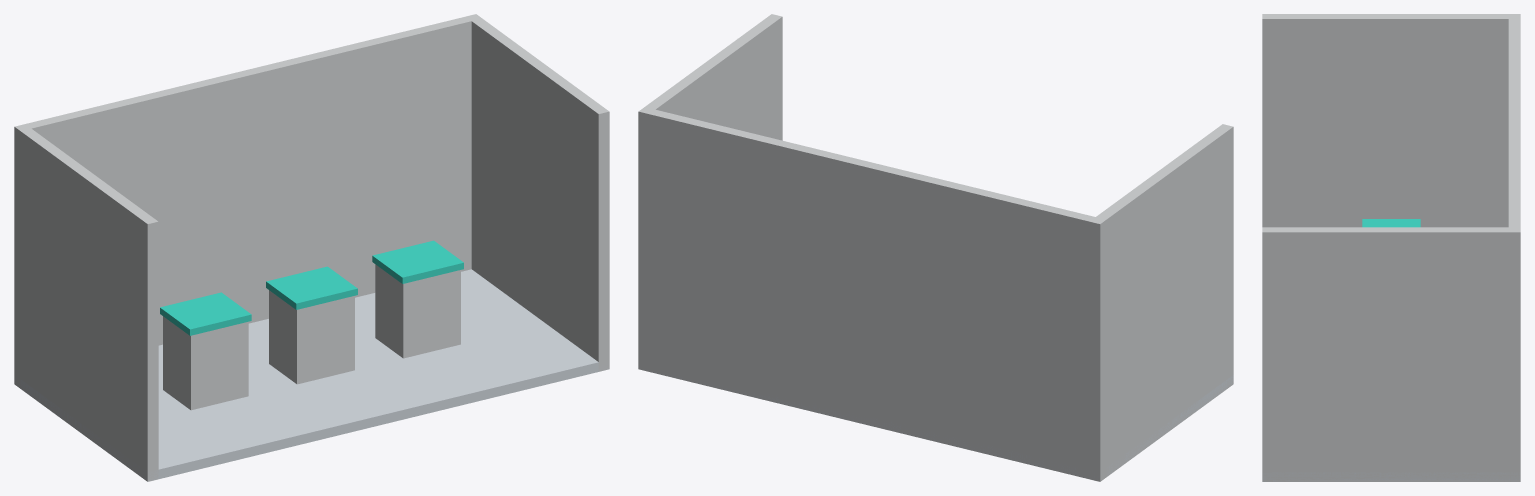
3 renders of one model, left to right at view 1: azimuth 30°, elevation 25°; view 2: azimuth 150°, elevation 25°; view 3: azimuth 270°, elevation 25°, orthographic. The views are drawn at different scales.
Visible parts, largest first — view 1: Exhibition Booth Concept; view 2: Exhibition Booth Concept; view 3: Exhibition Booth Concept.
Part boxes in pixels (<box>): Exhibition Booth Concept: <box>14,14,609,481</box>; Exhibition Booth Concept: <box>638,14,1233,481</box>; Exhibition Booth Concept: <box>1262,14,1520,481</box>.
Bounding box in the file's own units: 6 × 3.2 × 3.
